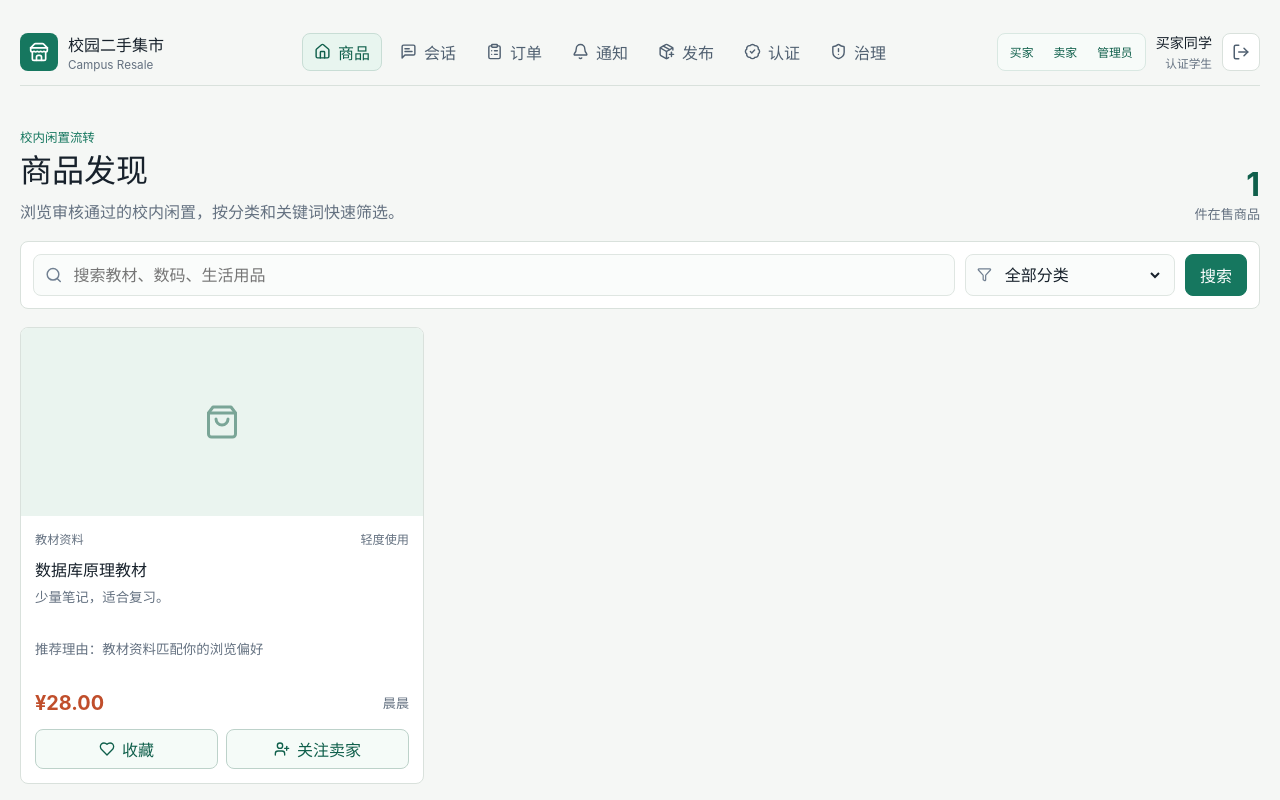
Test: App › lets buyers favorite goods and follow sellers from discovery cards
Expected: the heading "数据库原理教材" is shown, x1=35 y1=560 x2=147 y2=580
Click the button with aria-label "收藏 数据库原理教材": (126, 749) x1=35 y1=729 x2=218 y2=769
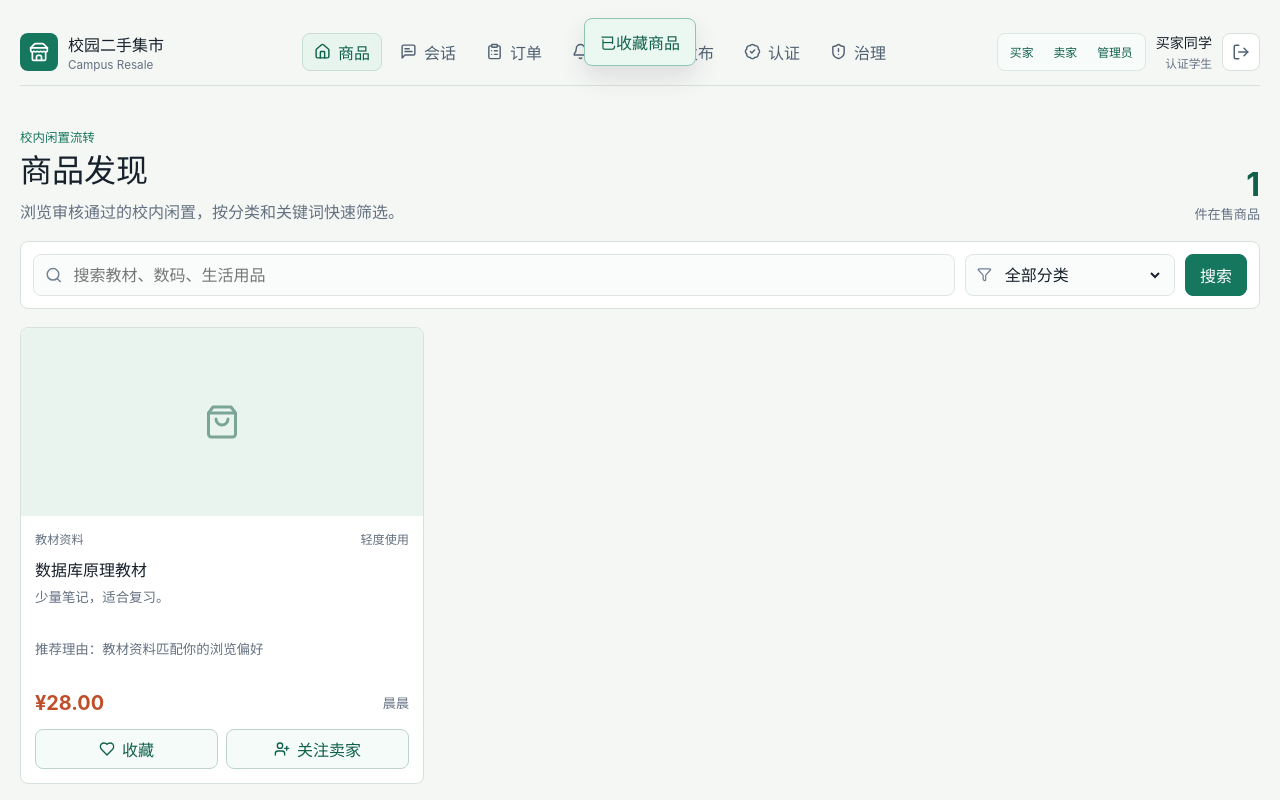
Expected: the text "已收藏商品" is shown, x1=584 y1=18 x2=696 y2=66
Click the button with aria-label "关注 晨晨": (318, 749) x1=226 y1=729 x2=409 y2=769
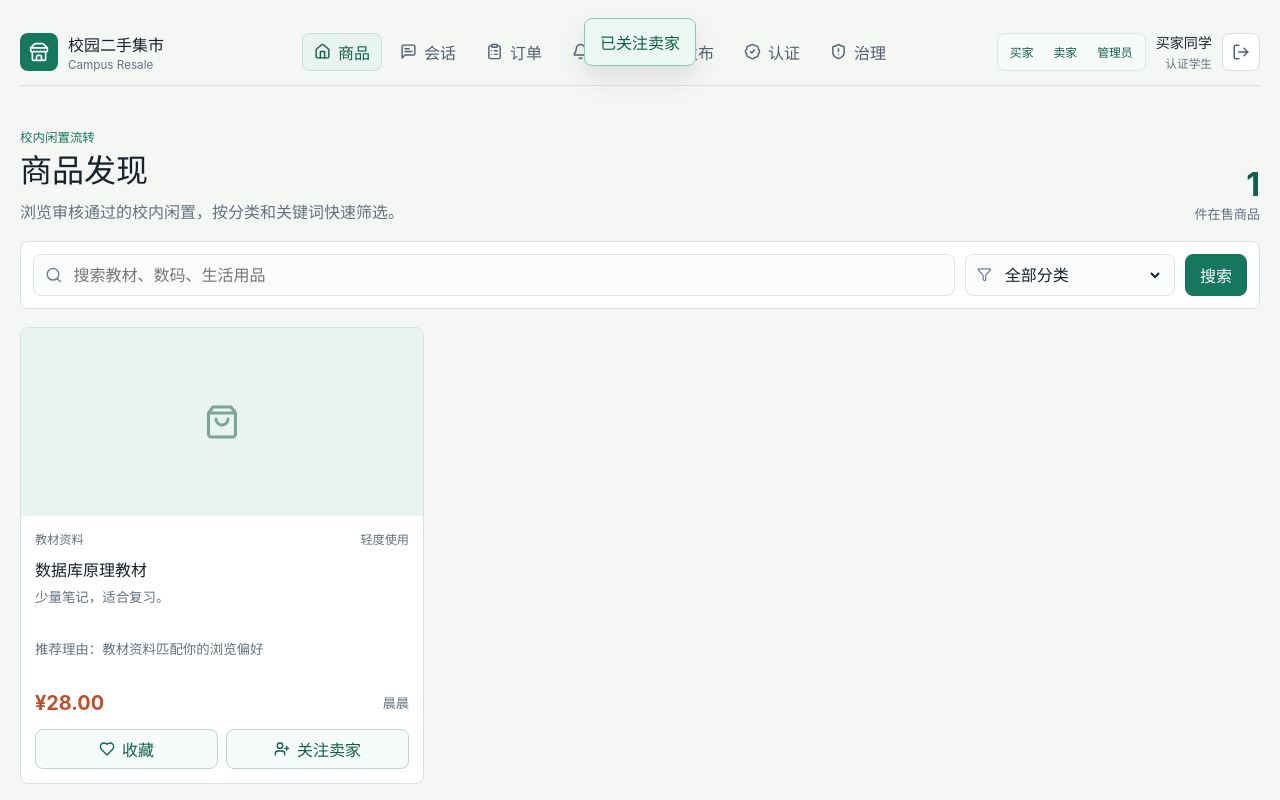
Expected: the text "已关注卖家" is shown, x1=584 y1=18 x2=696 y2=66
